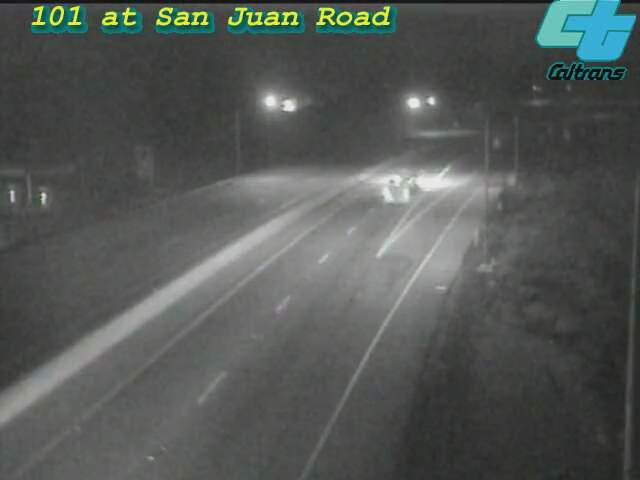vehicle: (359, 146, 439, 226)
